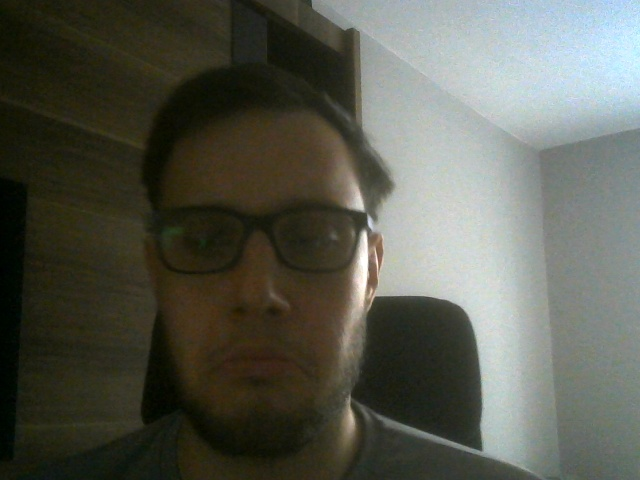neutral: (136, 63, 387, 451)
